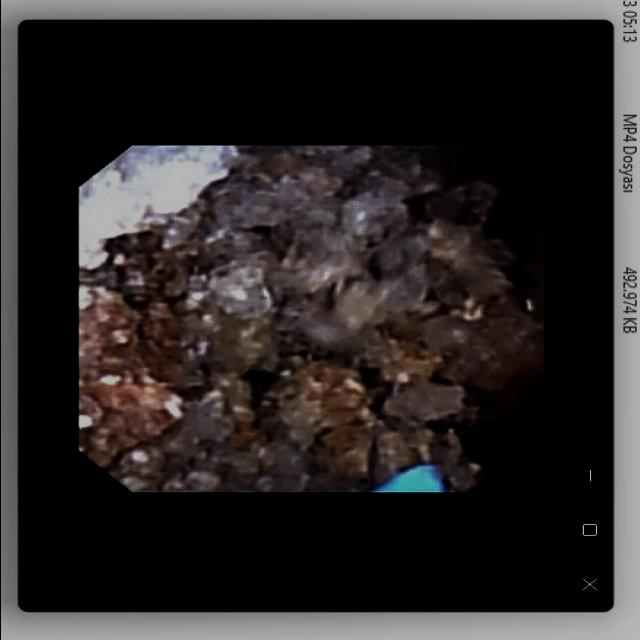fiber: (372, 467, 440, 491)
stone: (86, 151, 531, 486)
